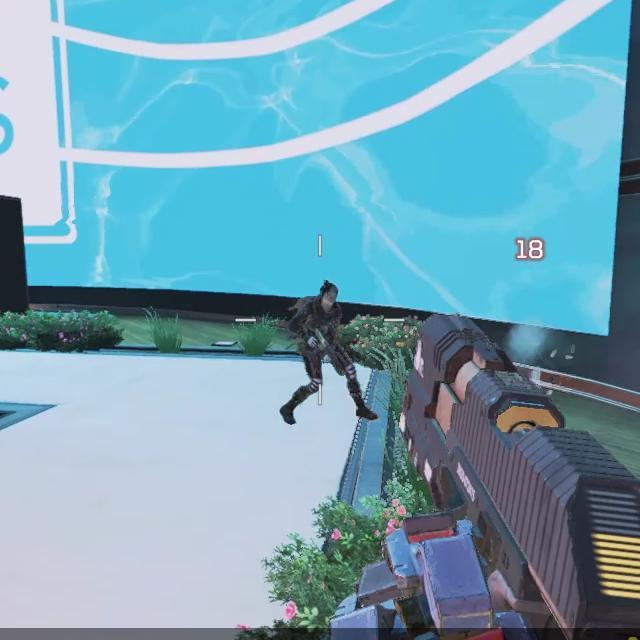avatar: (276, 281, 379, 427)
